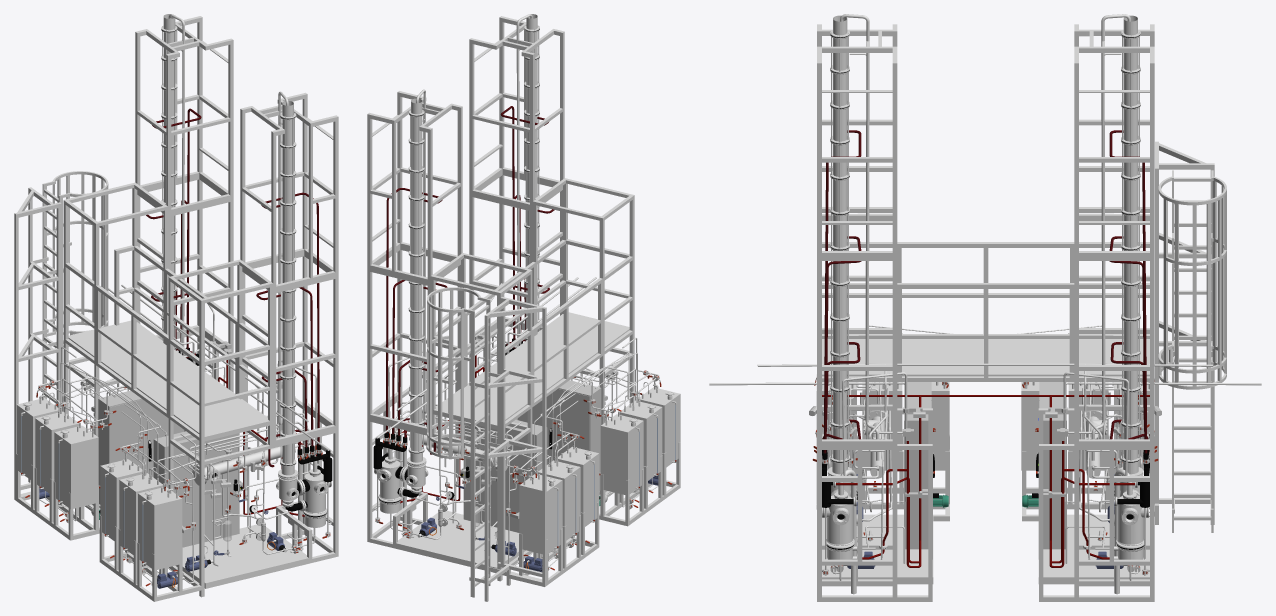
The model's file is LSUDistillationLab.glb.
The picture shows the model from 3 angles, left to right: view 1: azimuth 30°, elevation 25°; view 2: azimuth 150°, elevation 25°; view 3: azimuth 270°, elevation 25°; orthographic projection. The views are drawn at different scales.
Parts seen in each view (by area): view 1: MetalFrame, GN Instance (×17), TK102 - Distillate Tank-col, Cylinder.023, TK101 - Feed Tank-col, TK103 - Bottoms Tank-col, Bolt.004, Tank.001-col, PipeLine - Overhead Vapor, Pipe.004, Ladder.001, PipeLine - Distillate Product to Tank.002; view 2: MetalFrame, GN Instance (×10), Tank.001-col, Cylinder.023, TK103 - Bottoms Tank-col, Bolt.004, TK102 - Distillate Tank-col, TK101 - Feed Tank-col, Tank-col, Ladder.001, PipeLine - Cooling Water Supply, Pipe.004 (+4 smaller); view 3: MetalFrame, GN Instance (×12), Cylinder.023, Tank.001-col, Bolt.004, Ladder.001, PipeLine - Steam Supply, PipeLine - Overhead Vapor, Tank-col, PipeLine - Cooling Water Supply, TK102 - Distillate Tank-col, TK101 - Feed Tank-col (+2 smaller).
Boxes of the visible parts, x1,y1,x2,y2 form: MetalFrame: [14, 16, 338, 601]; GN Instance (×17): [98, 91, 331, 583]; TK102 - Distillate Tank-col: [54, 425, 98, 509]; Cylinder.023: [52, 171, 108, 346]; TK101 - Feed Tank-col: [35, 411, 79, 493]; TK103 - Bottoms Tank-col: [16, 398, 60, 479]; Bolt.004: [161, 25, 177, 349]; Tank.001-col: [163, 14, 175, 346]; PipeLine - Overhead Vapor: [168, 14, 195, 363]; Pipe.004: [152, 108, 201, 348]; Ladder.001: [44, 189, 58, 403]; PipeLine - Distillate Product to Tank.002: [63, 377, 126, 431]; MetalFrame: [367, 16, 680, 601]; GN Instance (×10): [463, 14, 680, 532]; Tank.001-col: [406, 98, 428, 487]; Cylinder.023: [427, 287, 480, 458]; TK103 - Bottoms Tank-col: [519, 474, 562, 553]; Bolt.004: [408, 110, 424, 451]; TK102 - Distillate Tank-col: [556, 446, 599, 526]; TK101 - Feed Tank-col: [538, 460, 580, 540]; Tank-col: [374, 460, 401, 513]; Ladder.001: [475, 305, 489, 586]; PipeLine - Cooling Water Supply: [376, 351, 459, 524]; Pipe.004: [386, 188, 442, 432]; MetalFrame: [816, 24, 1214, 601]; GN Instance (×12): [709, 14, 1066, 567]; Cylinder.023: [1158, 176, 1226, 389]; Tank.001-col: [1119, 15, 1143, 496]; Bolt.004: [1121, 30, 1140, 460]; Ladder.001: [1174, 177, 1211, 520]; PipeLine - Steam Supply: [986, 395, 1149, 567]; PipeLine - Overhead Vapor: [1091, 14, 1130, 460]; Tank-col: [1116, 495, 1148, 559]; PipeLine - Cooling Water Supply: [1063, 372, 1261, 537]; TK102 - Distillate Tank-col: [1021, 382, 1039, 470]; TK101 - Feed Tank-col: [1068, 382, 1108, 470].
Size of the model in its own units: 3.01 by 7.13 by 6.23.
